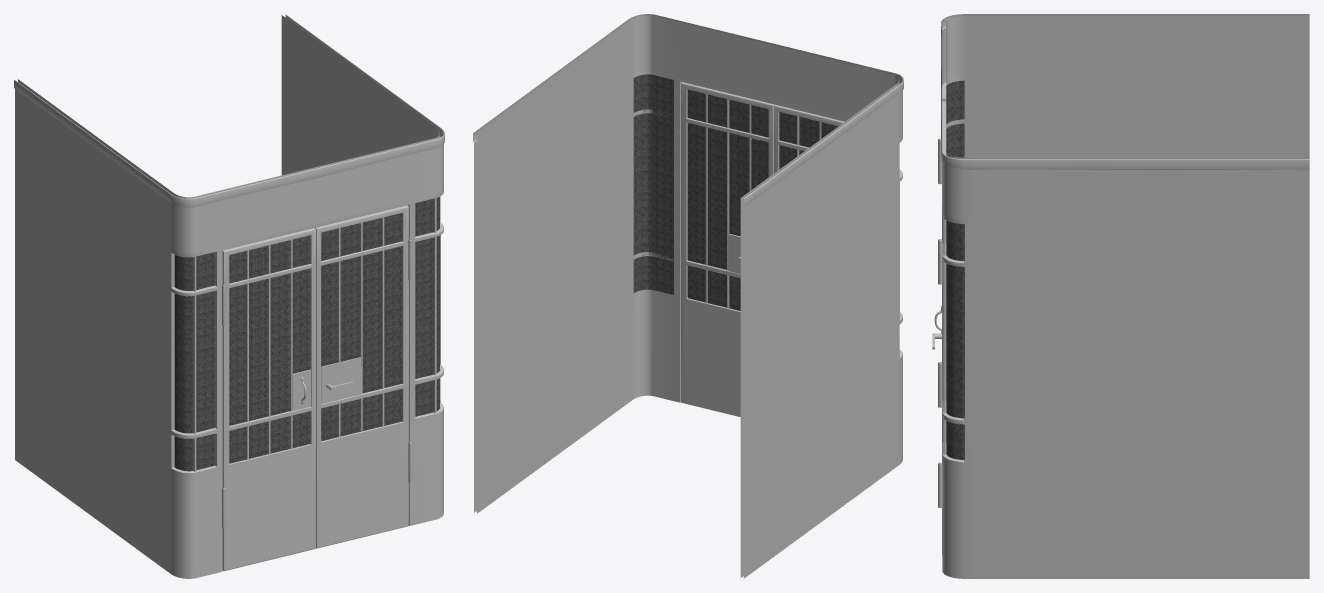
The model's file is Elevator_Corpus.fbx.
3 renders of one model, left to right at view 1: azimuth 30°, elevation 25°; view 2: azimuth 150°, elevation 25°; view 3: azimuth 270°, elevation 25°, orthographic. The views are drawn at different scales.
Visible parts, largest first — view 1: Elevator_Body, Elevator_door_left, Elevator_door_right; view 2: Elevator_Body, Elevator_door_right, Elevator_door_left; view 3: Elevator_Body, Elevator_door_right.
Boxes of the visible parts, bbox=[...] form: Elevator_Body: bbox=[14, 14, 444, 578]; Elevator_door_left: bbox=[221, 228, 315, 571]; Elevator_door_right: bbox=[315, 205, 412, 548]; Elevator_Body: bbox=[473, 14, 903, 578]; Elevator_door_right: bbox=[681, 82, 774, 417]; Elevator_door_left: bbox=[773, 104, 844, 173]; Elevator_Body: bbox=[941, 14, 1309, 578]; Elevator_door_right: bbox=[938, 162, 942, 554].
Size of the model in its own units: 188 by 251 by 205.
